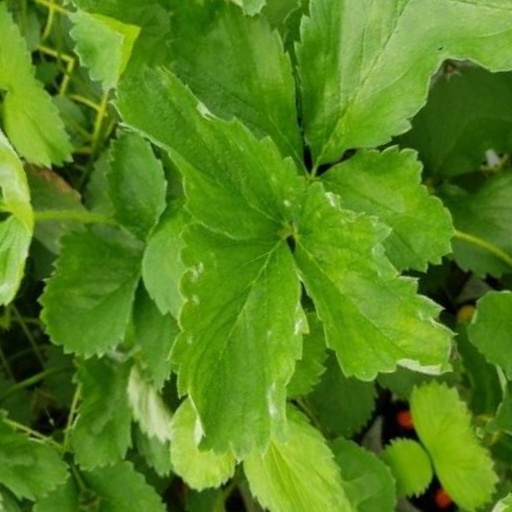Powdery Mildew Leaf: (117, 195, 291, 445), (187, 34, 335, 251), (279, 213, 407, 444)
